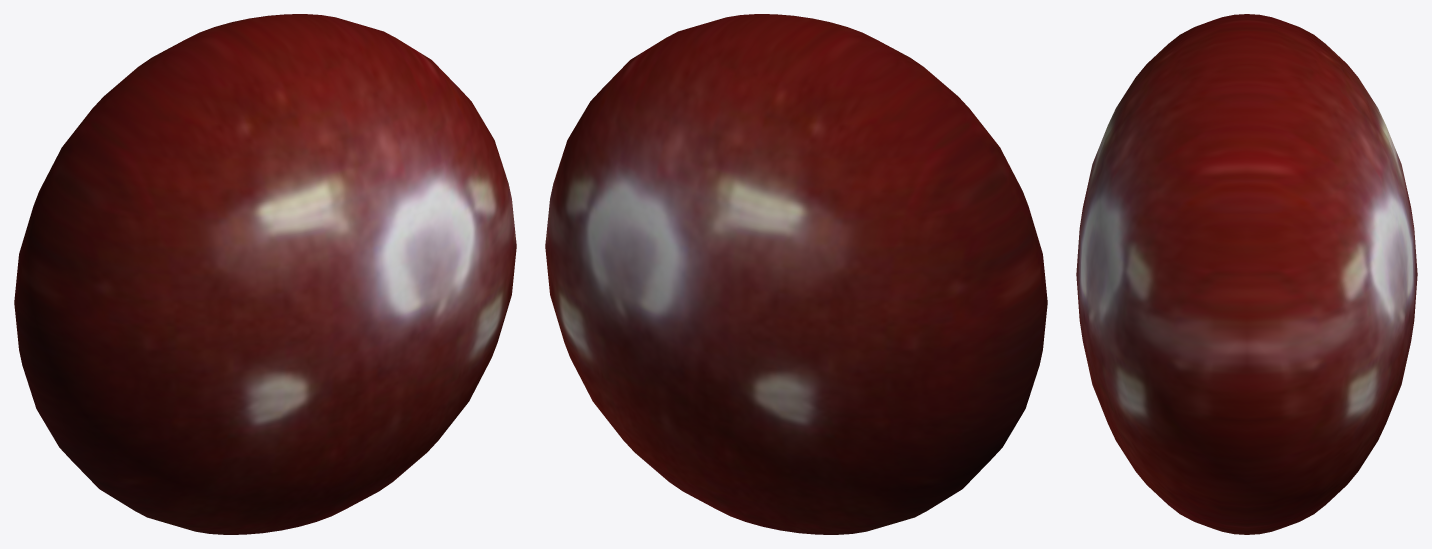
The model's file is 20140311GOPHDRGPT02463.fbx.
3 views of the same model, side by side, from view 1: azimuth 30°, elevation 25°; view 2: azimuth 150°, elevation 25°; view 3: azimuth 270°, elevation 25° (orthographic). The views are drawn at different scales.
Parts seen in each view (by area): view 1: Sphere; view 2: Sphere; view 3: Sphere.
Boxes of the visible parts, x1=… form: Sphere: x1=14, y1=14, x2=516, y2=534; Sphere: x1=545, y1=14, x2=1047, y2=534; Sphere: x1=1076, y1=14, x2=1417, y2=534.
Size of the model in its own units: 0.9888 by 0.9888 by 0.647.
1 material, 1 textured.
